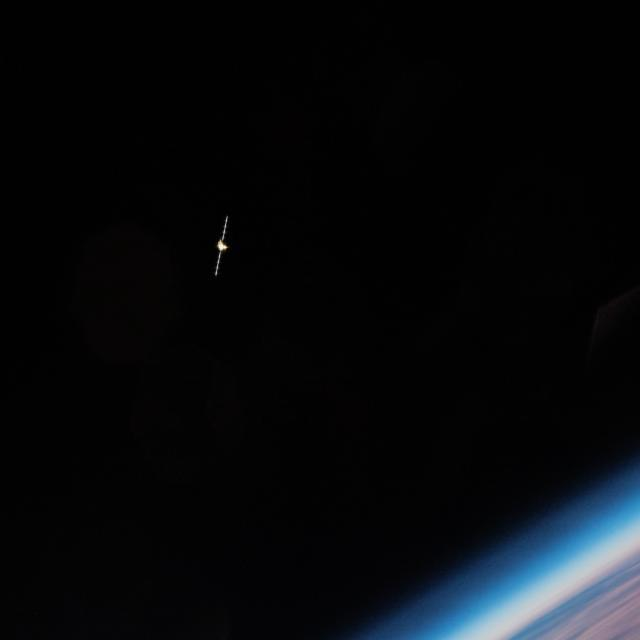medium_debris: (202, 199, 250, 299)
